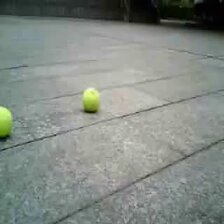tennis: (1, 105, 13, 139), (82, 88, 99, 110)
